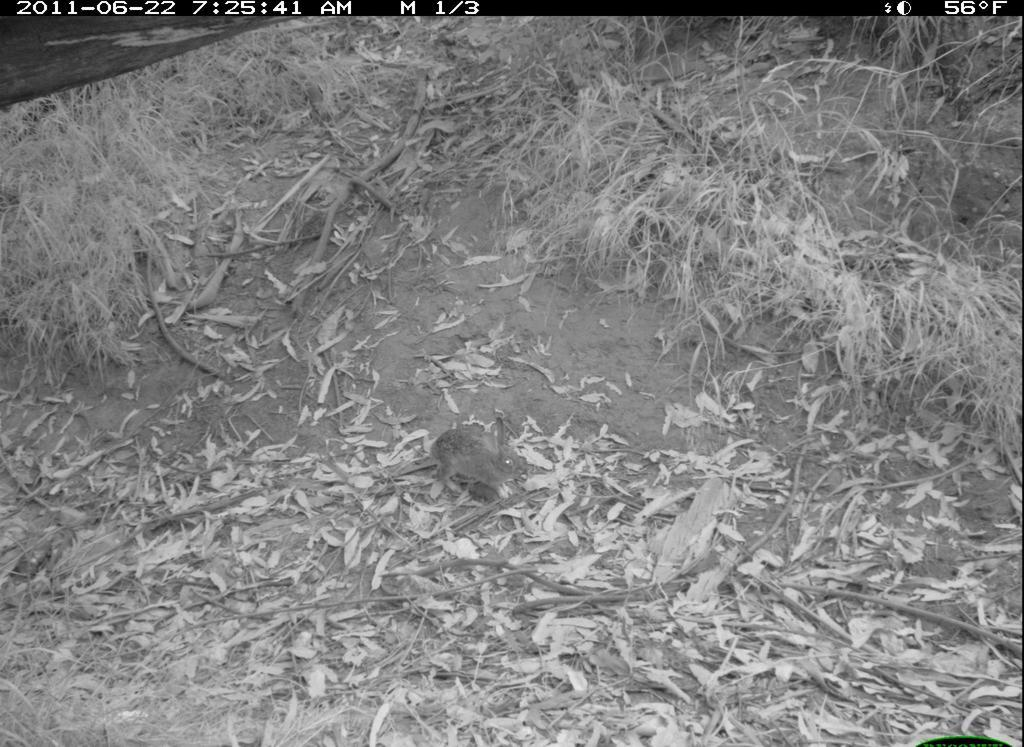rabbit: (391, 409, 539, 507)
